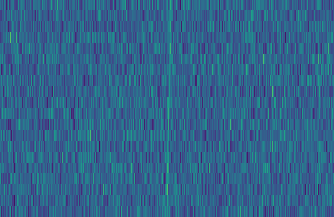signal: (162, 0, 175, 217)
